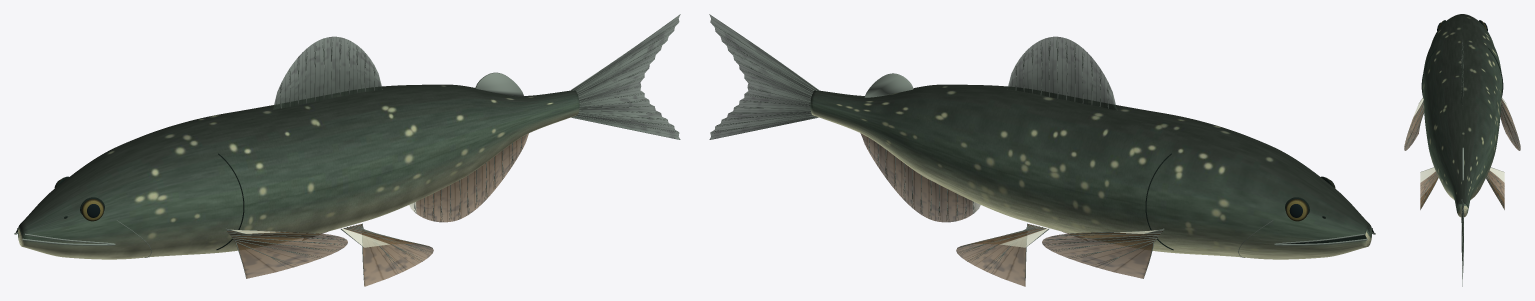
File: lake-trout.glb
The picture shows the model from 3 angles, left to right: view 1: azimuth 30°, elevation 25°; view 2: azimuth 150°, elevation 25°; view 3: azimuth 270°, elevation 25°; orthographic projection. The views are drawn at different scales.
Visible parts, largest first — view 1: lake-trout specimen; view 2: lake-trout specimen; view 3: lake-trout specimen.
Boxes of the visible parts, <box> form: lake-trout specimen: <box>14,14,680,286</box>; lake-trout specimen: <box>709,14,1375,286</box>; lake-trout specimen: <box>1404,14,1520,286</box>.
Size of the model in its own units: 2.48 by 0.8149 by 0.558.
10 materials, 5 textured.
